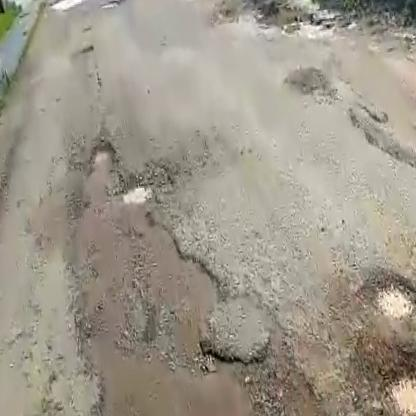pothole: (347, 324, 416, 416), (362, 266, 416, 330), (122, 180, 155, 207), (87, 143, 117, 166)
